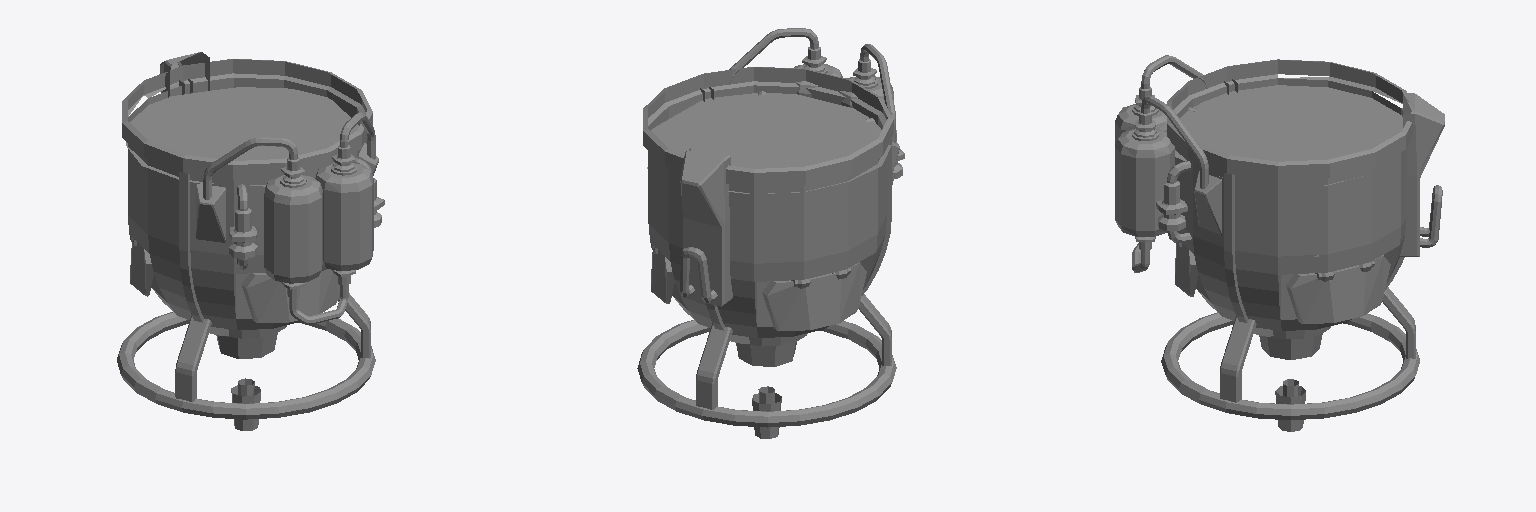
File: letalka.obj
The picture shows the model from 3 angles: view 1: azimuth 30°, elevation 25°; view 2: azimuth 150°, elevation 25°; view 3: azimuth 270°, elevation 25°; orthographic projection.
Visible parts, largest first — view 1: droid, Плоскость.001, ConeBleu, Cone3; view 2: droid, Плоскость.001, ConeBleu, Cone3; view 3: droid, Плоскость.001, ConeBleu, Cone3.
Boxes of the visible parts, x1,y1,x2,y2 form: droid: [117, 52, 384, 419]; Плоскость.001: [126, 87, 358, 186]; ConeBleu: [216, 333, 277, 358]; Cone3: [231, 385, 260, 430]; droid: [637, 28, 904, 427]; Плоскость.001: [651, 93, 892, 193]; ConeBleu: [736, 342, 796, 366]; Cone3: [752, 393, 781, 438]; droid: [1115, 55, 1444, 419]; Плоскость.001: [1175, 85, 1402, 185]; ConeBleu: [1259, 333, 1322, 359]; Cone3: [1275, 386, 1305, 431].
Bounding box in the file's own units: 1.11 × 1.58 × 1.36.